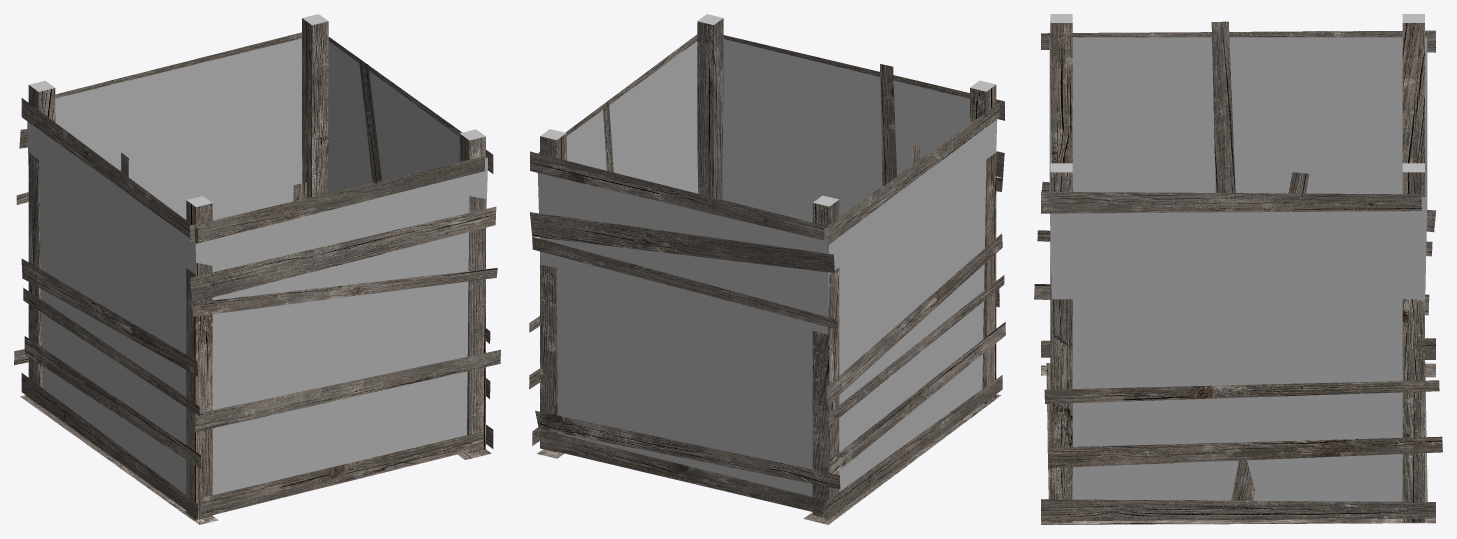
File: Chest4_LOD1.fbx
The picture shows the model from 3 angles, left to right: view 1: azimuth 30°, elevation 25°; view 2: azimuth 150°, elevation 25°; view 3: azimuth 270°, elevation 25°; orthographic projection. The views are drawn at different scales.
Visible parts, largest first — view 1: polySurface837; view 2: polySurface837; view 3: polySurface837.
Part boxes in pixels (x1,y1,x2,y2): polySurface837: (14,14,500,524); polySurface837: (529,14,1005,524); polySurface837: (1034,14,1442,524).
Size of the model in its own units: 1.18 by 1.12 by 1.18.
